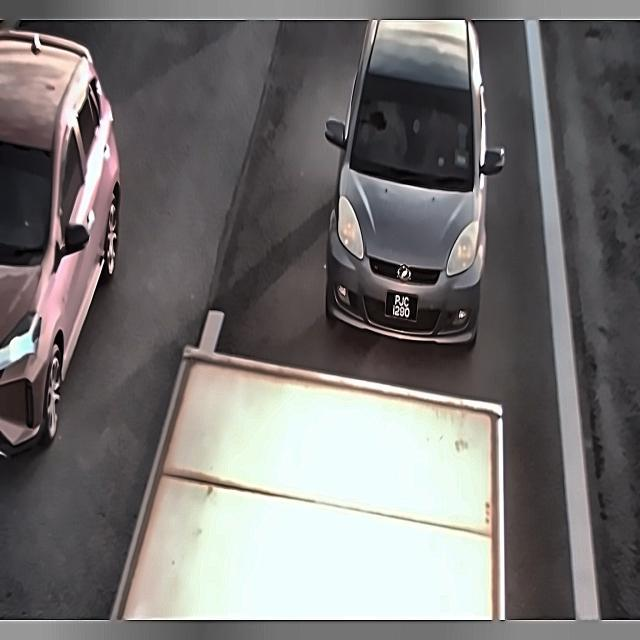car: (383, 286, 422, 326)
